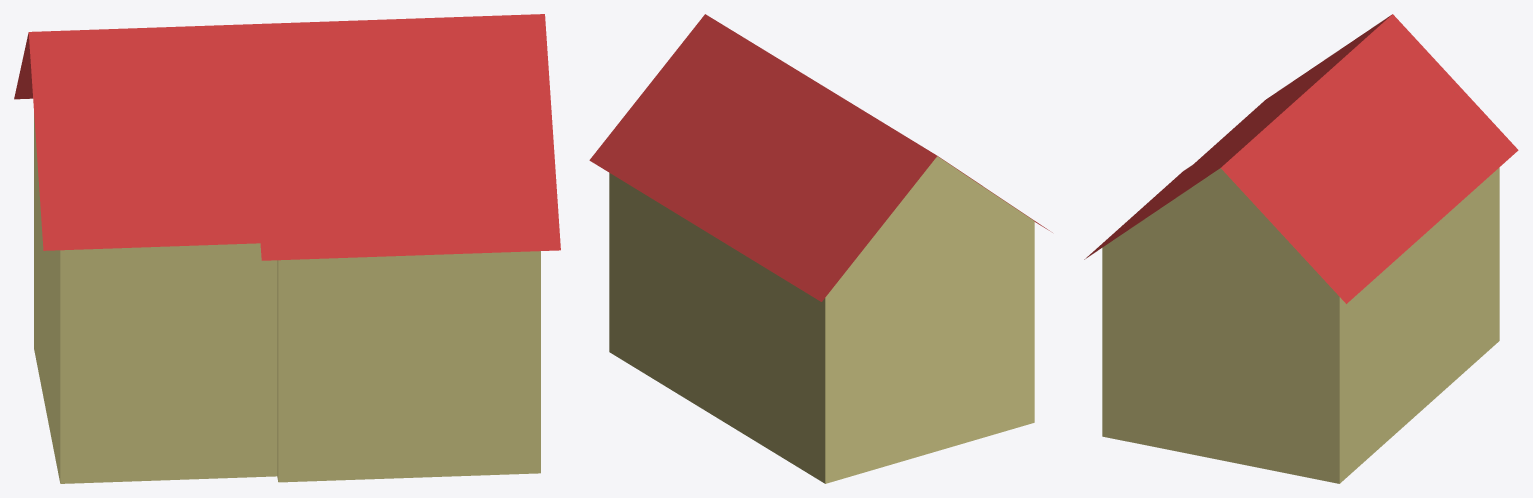
The picture shows the model from 3 angles, left to right: view 1: azimuth 30°, elevation 25°; view 2: azimuth 150°, elevation 25°; view 3: azimuth 270°, elevation 25°; orthographic projection. The views are drawn at different scales.
Bounding box in the file's own units: 25.33 × 22.79 × 17.27.
